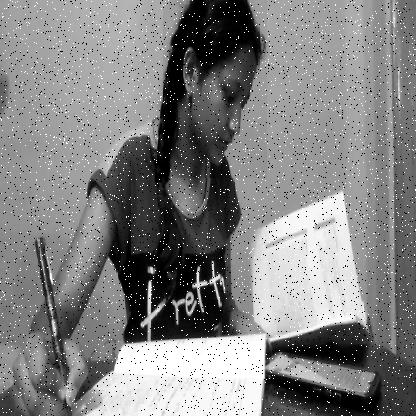Distracted: (164, 0, 268, 178)
